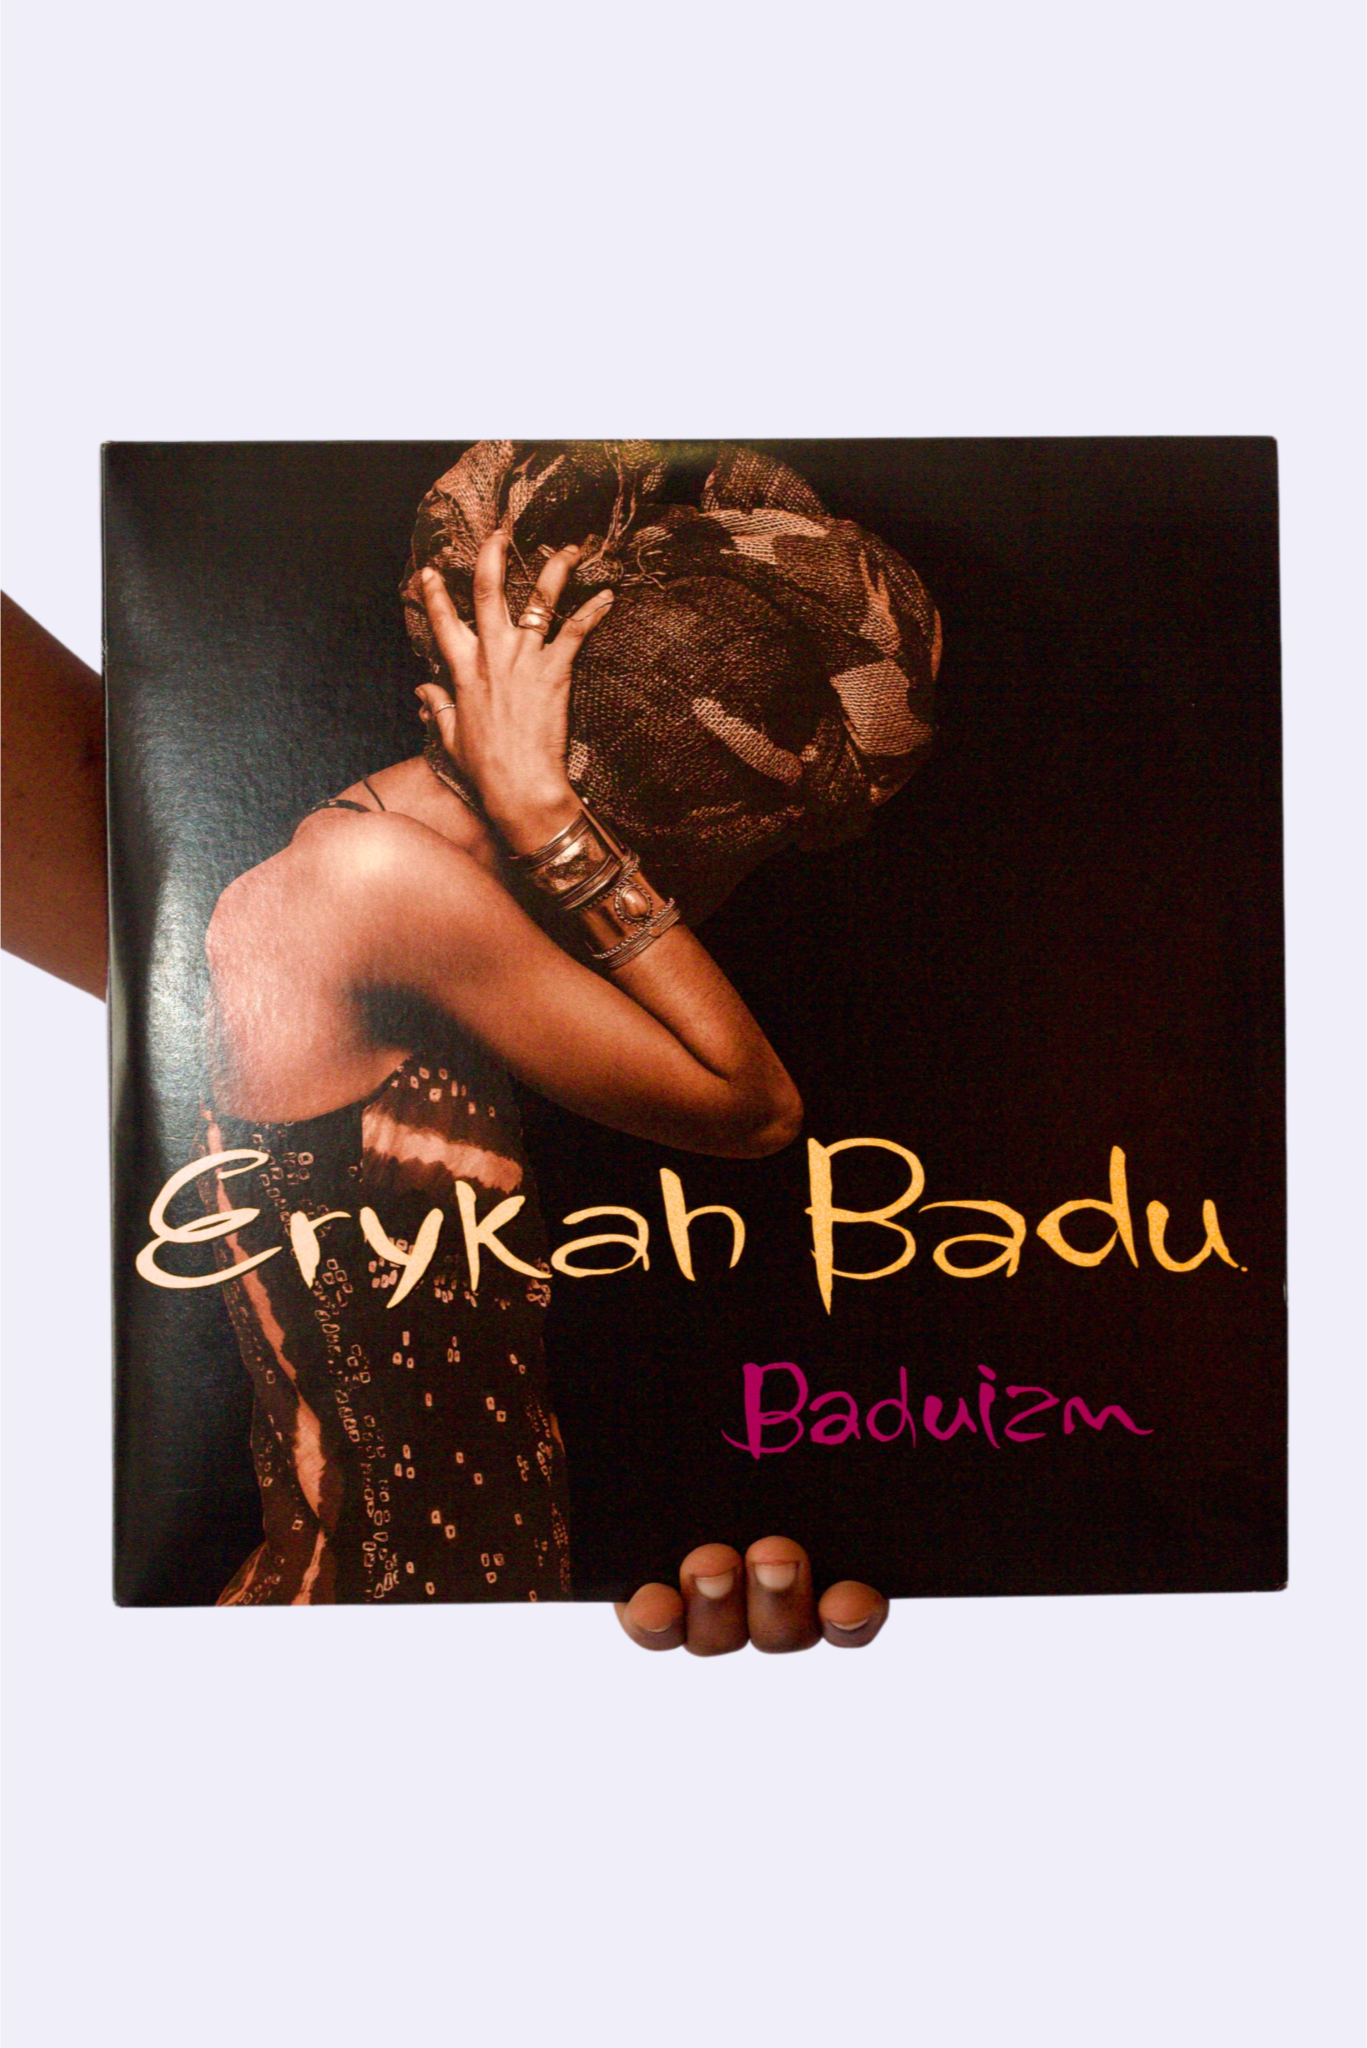erykah badu_baduizm: (87, 436, 1298, 1610)
